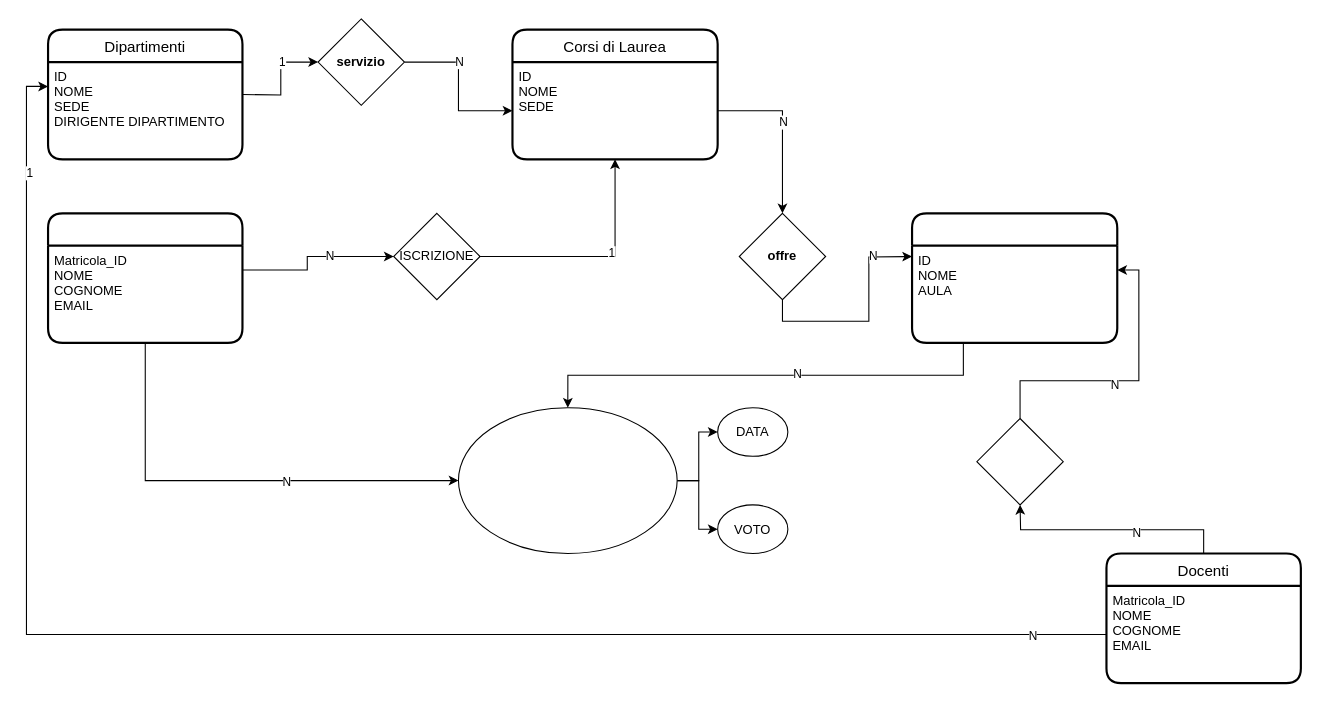
Some shapes in this 1321 by 703 pixel diagram are drawn without their labels. Each missing label, with the box of its shape:
Corso: (910, 212, 1118, 343)
ESAME: (457, 407, 677, 554)
Insegna: (976, 417, 1063, 505)
Studenti: (46, 212, 243, 343)
